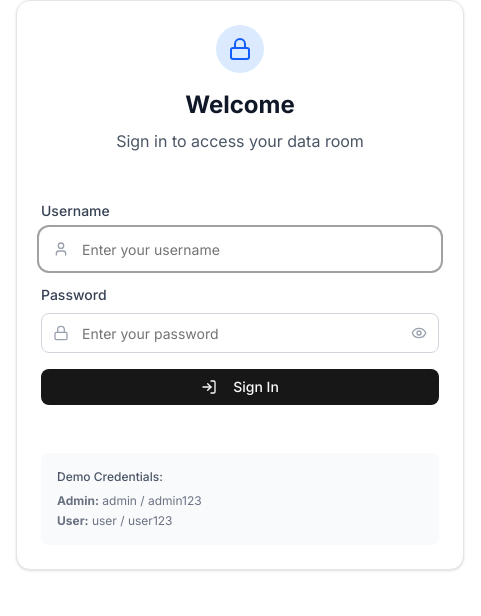
LoginForm › validates password length
Type "admin" into the field with placeholder "Enter your username".
click(240, 249); type("admin")  # box [41, 229, 439, 269]
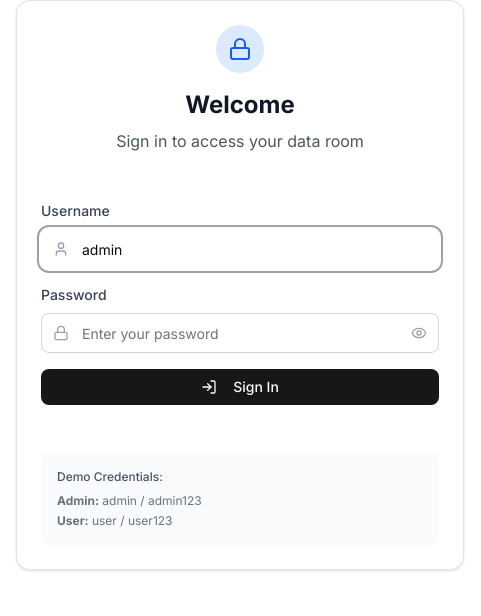
Type "123" into the password field with placeholder "Enter your password".
click(240, 333); type("123")  # box [41, 313, 439, 353]
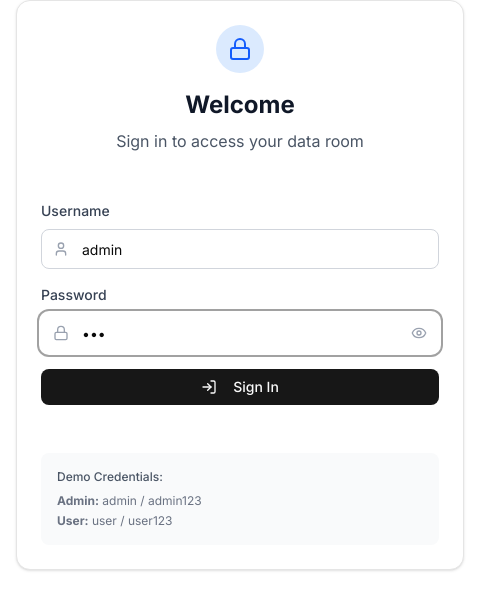
Click the button "Sign In".
click(240, 387)  # box [41, 369, 439, 405]
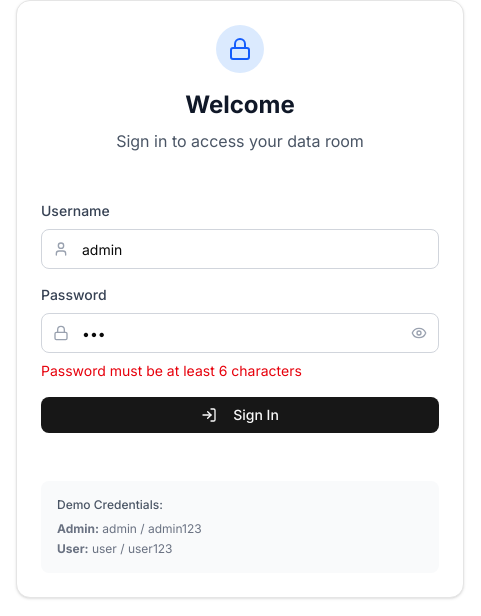
Now the text "Password must be at least 6 characters" is shown, box [41, 362, 302, 379]
